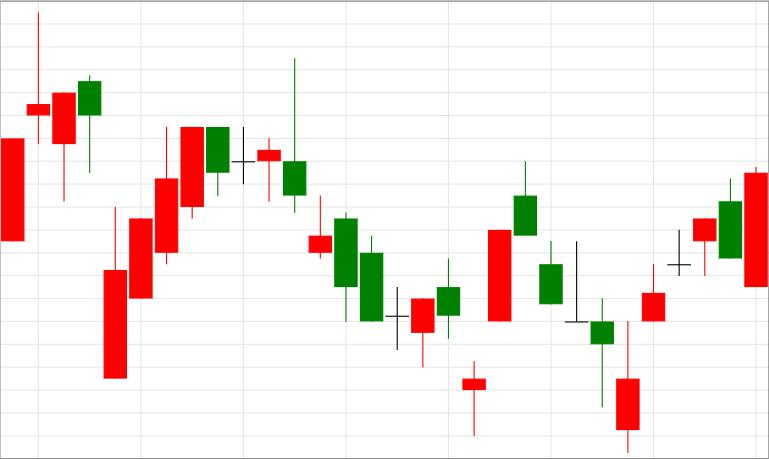morning_star_rise: (283, 58, 511, 438)
